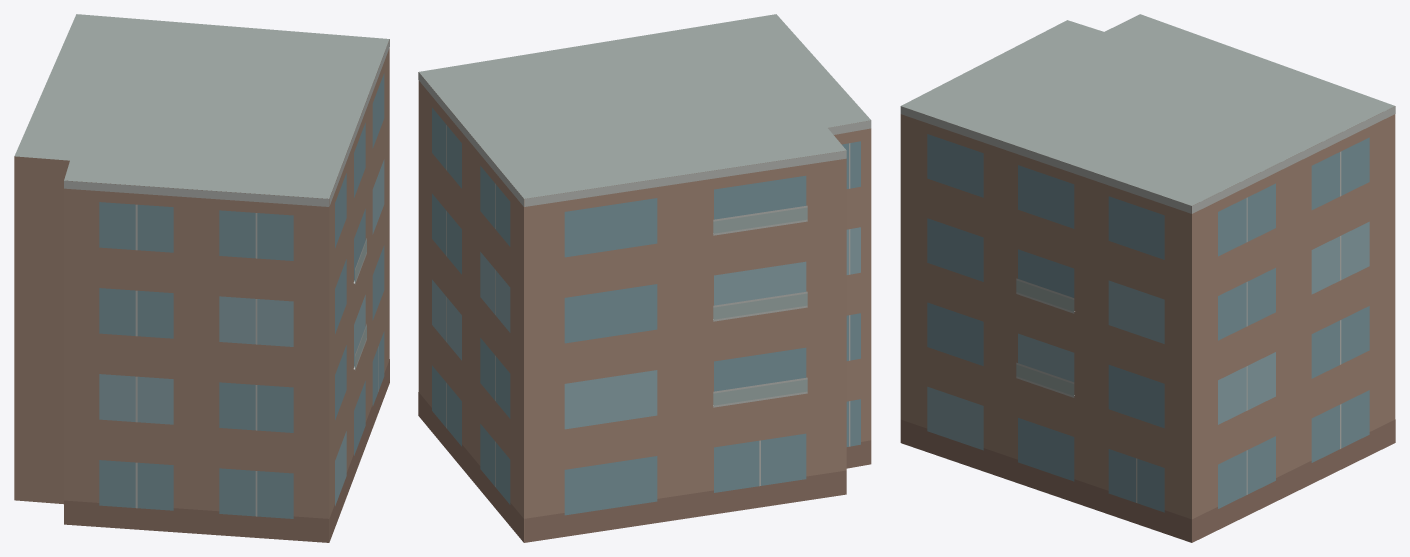
Rendered from survey-upis-32973566.glb.
The picture shows the model from 3 angles, left to right: view 1: azimuth 30°, elevation 25°; view 2: azimuth 150°, elevation 25°; view 3: azimuth 270°, elevation 25°; orthographic projection. The views are drawn at different scales.
Visible parts, largest first — view 1: survey-upis-32973566.tmp; view 2: survey-upis-32973566.tmp; view 3: survey-upis-32973566.tmp.
Boxes of the visible parts, <box> form: survey-upis-32973566.tmp: <box>14,14,389,542</box>; survey-upis-32973566.tmp: <box>418,14,871,542</box>; survey-upis-32973566.tmp: <box>900,14,1395,542</box>.
Size of the model in its own units: 12.6 by 10.3 by 13.72.
